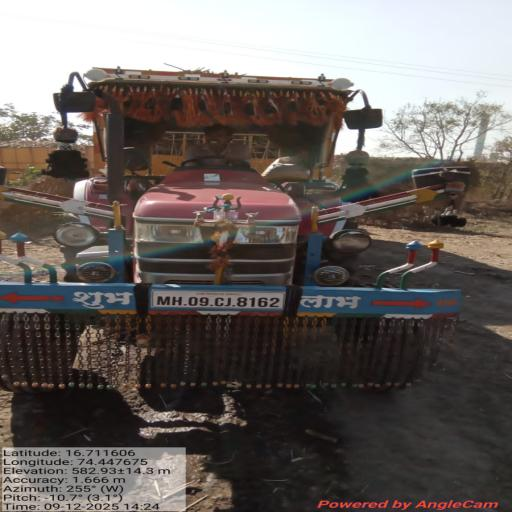number_plate: (157, 290, 296, 313)
